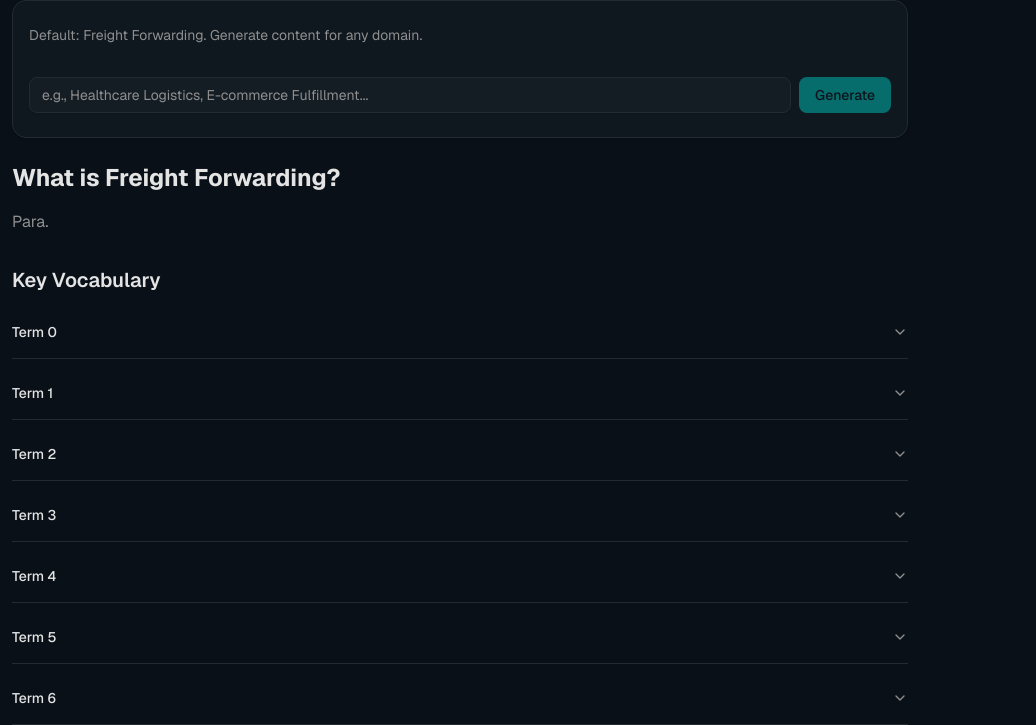
Test case: DomainTheory — generation wiring › shows error state on API failure
The width and height of the screenshot is (1036, 725).
Type "Logistics" into the field with placeholder "e.g., Healthcare Logistics, E-commerce Fulfillment...".
click(410, 95); type("Logistics")  # box top-left (29, 77), bottom-right (791, 113)
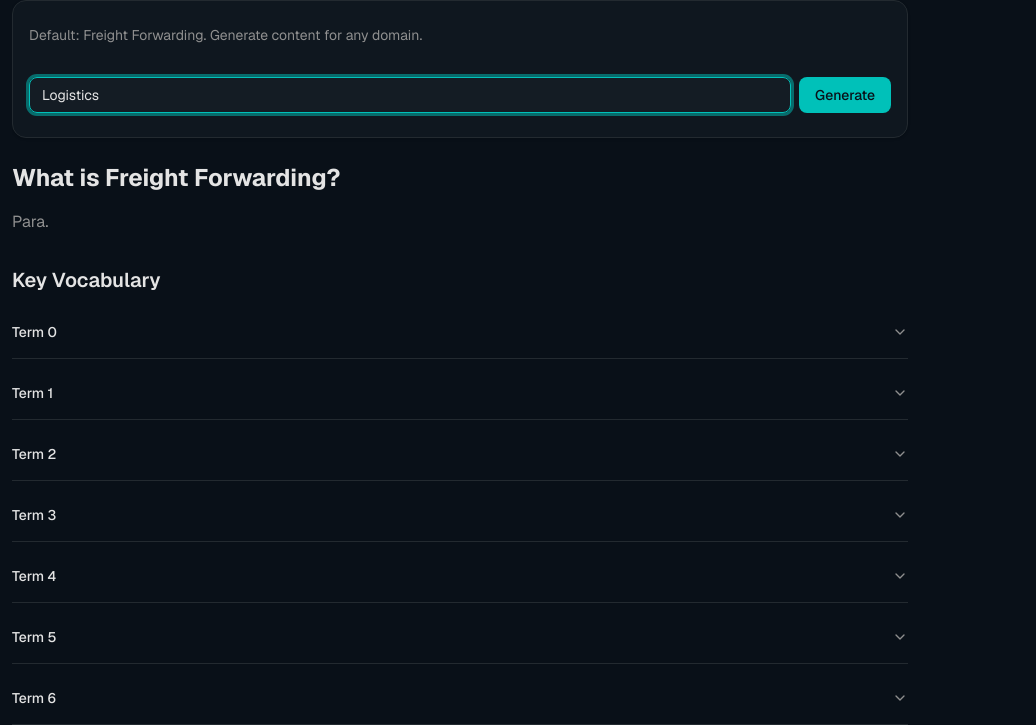
Click the button "Generate".
click(845, 95)  # box top-left (799, 77), bottom-right (891, 113)
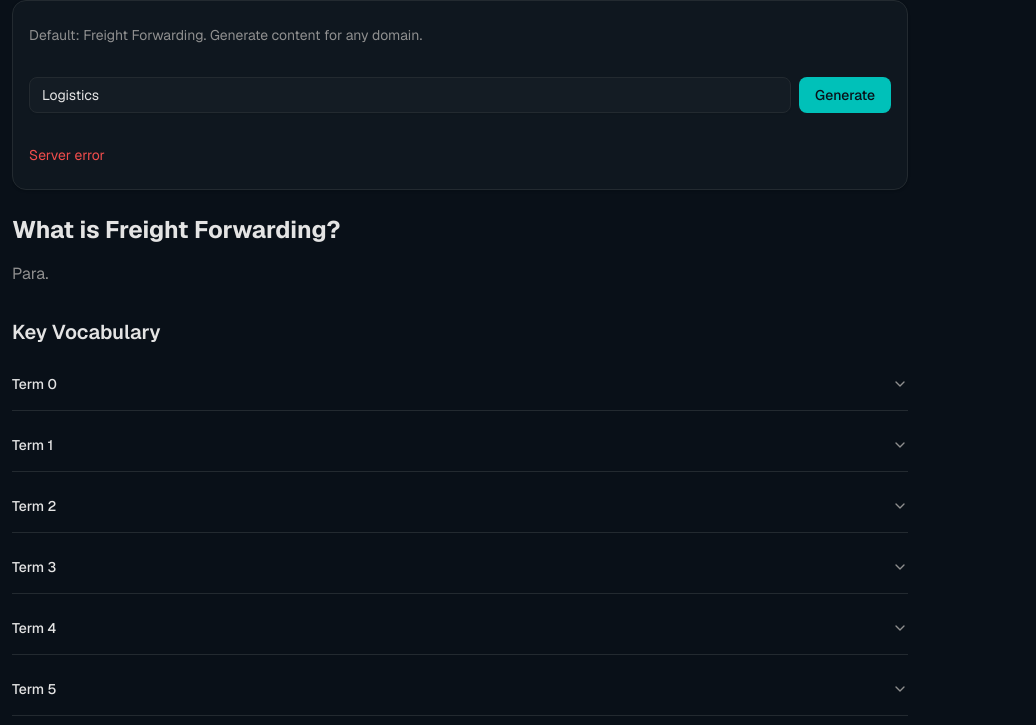
Check: the text "Server error" is shown, box top-left (29, 146), bottom-right (105, 164)
